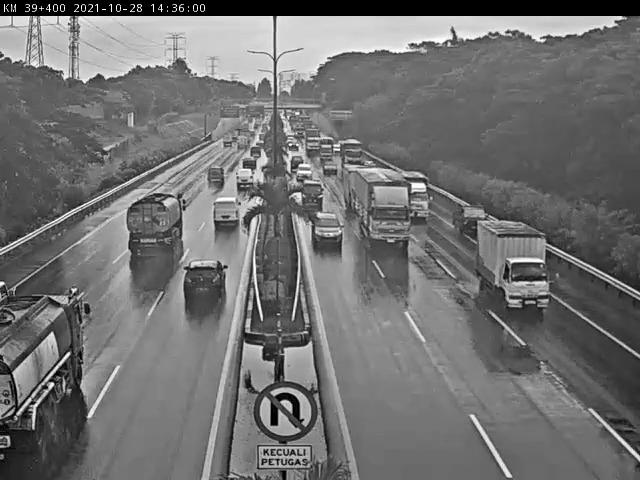big truck: (0, 292, 91, 455), (352, 171, 416, 243), (133, 195, 180, 269)
car: (179, 253, 232, 305), (211, 195, 242, 241), (311, 204, 343, 244), (456, 200, 482, 237), (405, 181, 431, 217), (296, 181, 329, 207), (208, 167, 223, 194), (242, 174, 258, 196), (322, 160, 339, 173), (243, 157, 257, 169), (301, 163, 309, 178), (294, 155, 302, 166)
small truck: (475, 220, 549, 309)
